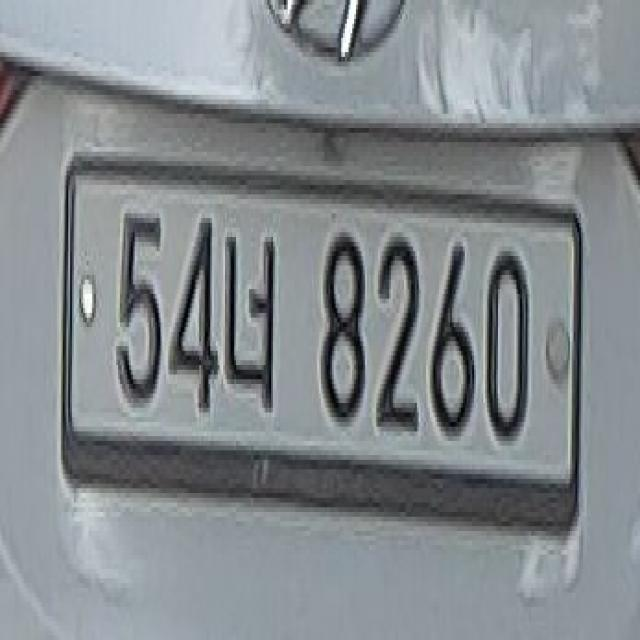0: (476, 232, 540, 465)
2: (371, 213, 424, 455)
4: (162, 190, 223, 432)
5: (111, 190, 168, 422)
6: (430, 213, 480, 455)
8: (321, 208, 369, 446)
license_plate: (48, 157, 581, 545)
neo: (220, 214, 290, 412)
